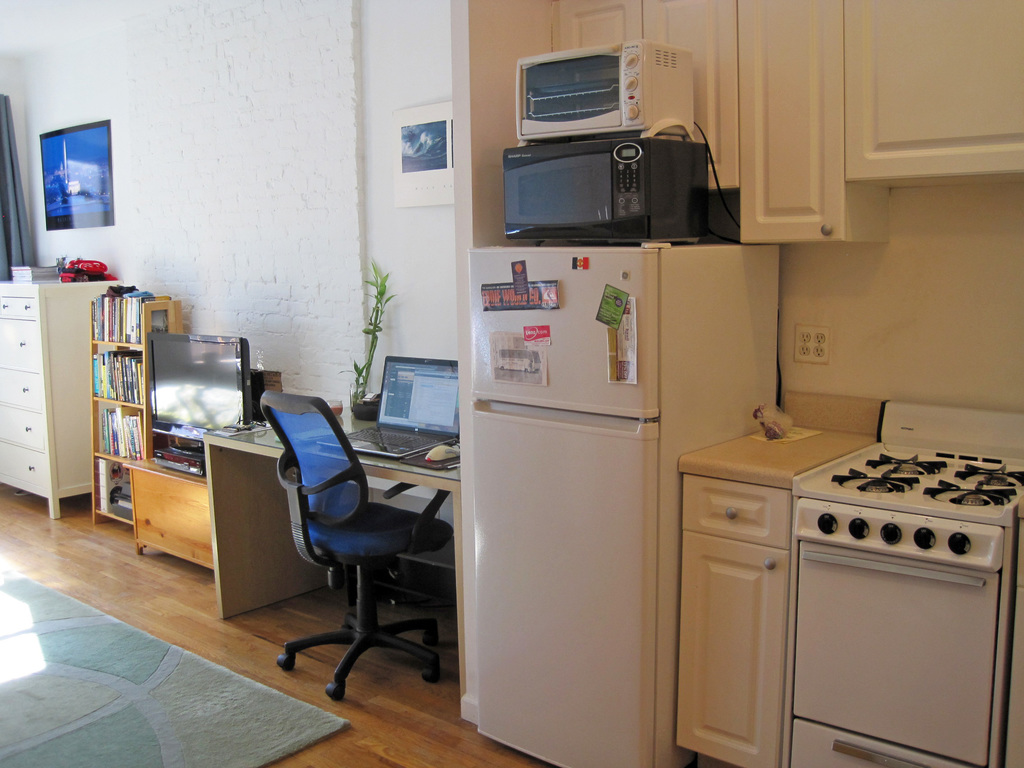cabinet door: (733, 18, 839, 244), (690, 545, 782, 759), (686, 480, 781, 544), (2, 371, 46, 417), (0, 442, 50, 482), (2, 317, 42, 366), (4, 410, 46, 450), (0, 300, 36, 317)
handle: (808, 546, 980, 601), (474, 394, 650, 438), (836, 729, 914, 768), (758, 549, 782, 587), (721, 500, 747, 534), (817, 212, 839, 244), (20, 418, 38, 438), (22, 459, 39, 478), (19, 383, 33, 403), (15, 338, 30, 353)
refrigerator door: (472, 415, 647, 758), (466, 253, 654, 407)
